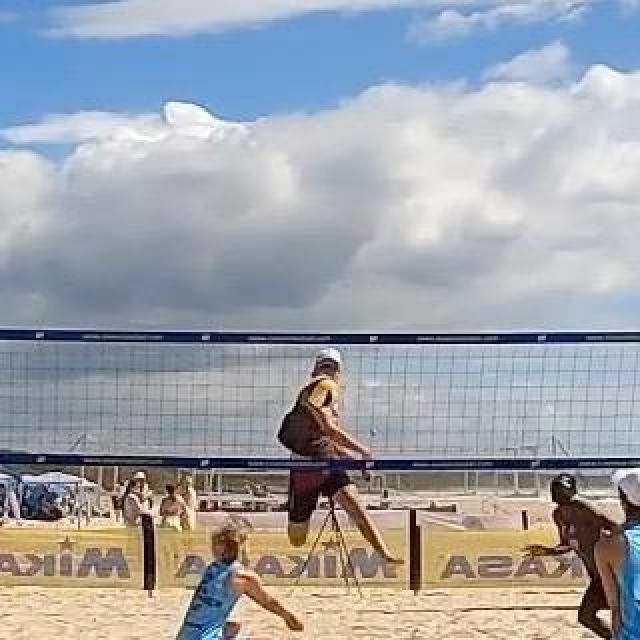volleyball: (302, 375, 338, 409)
